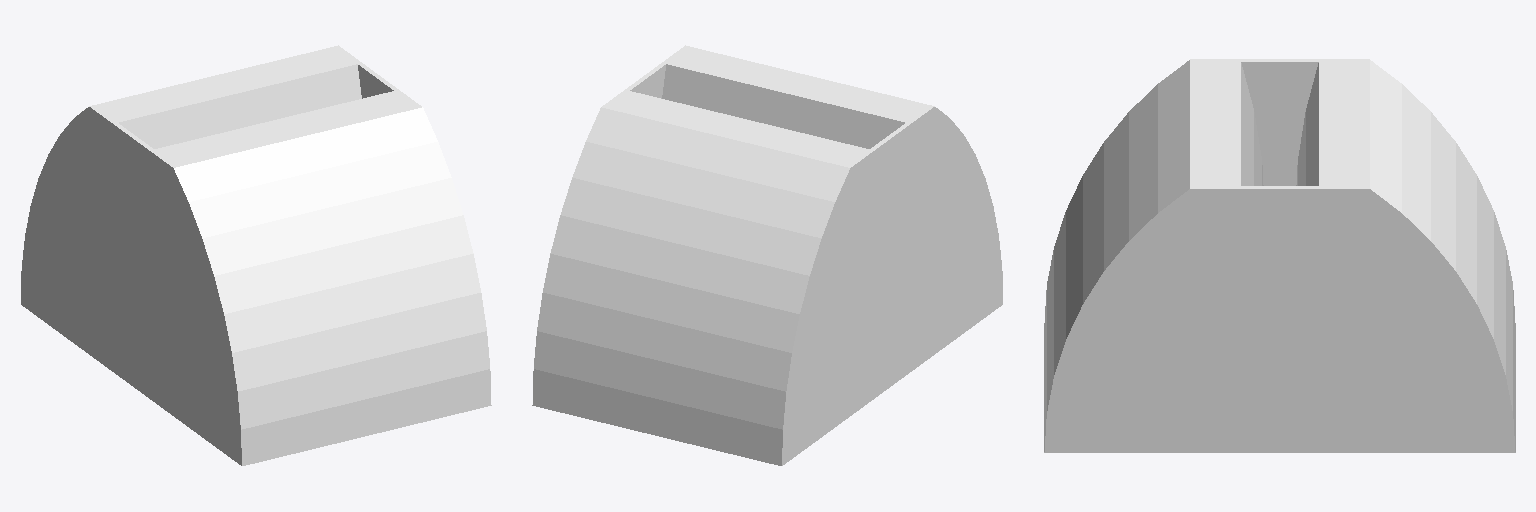
The robot description file, URDF, robot "tubestraight0328":
<?xml version="1.0" encoding="utf-8"?>
<!-- This URDF was automatically created by SolidWorks to URDF Exporter! Originally created by [author] ([email redacted]) 
     Commit Version: 1.6.0-1-g15f4949  Build Version: 1.6.7594.29634
     For more information, please see http://wiki.ros.org/sw_urdf_exporter -->
<robot
  name="tubestraight0328">
  <link
    name="base_link">
    <inertial>
      <origin
        xyz="1.25 -0.000986875362566586 0.62710678276959"
        rpy="0 0 0" />
      <mass
        value="106.928396434074" />
      <inertia
        ixx="78.3989581833438"
        ixy="3.01129949358587E-13"
        ixz="-7.31679776851198E-14"
        iyy="69.3721722264704"
        iyz="-0.0668085932515206"
        izz="120.410532242369" />
    </inertial>
    <visual>
      <origin
        xyz="0 0 0"
        rpy="0 0 0" />
      <geometry>
        <mesh
          filename="package://tubestraight0328/meshes/base_link.STL" />
      </geometry>
      <material
        name="">
        <color
          rgba="1 0.752941176470588 1 1" />
      </material>
    </visual>
    <collision>
      <origin
        xyz="0 0 0"
        rpy="0 0 0" />
      <geometry>
        <mesh
          filename="package://tubestraight0328/meshes/base_link.STL" />
      </geometry>
    </collision>
  </link>
  <link
    name="Link_wing">
    <inertial>
      <origin
        xyz="8.88178419700125E-16 0.129717036139893 1.25000000000001"
        rpy="0 0 0" />
      <mass
        value="15073.518171395" />
      <inertia
        ixx="14788.5132430074"
        ixy="-4.54747350886464E-13"
        ixz="1021.6934850648"
        iyy="13454.3451478932"
        iyz="-5.74118530494161E-12"
        izz="10900.7100072566" />
    </inertial>
    <visual>
      <origin
        xyz="0 0 0"
        rpy="0 0 0" />
      <geometry>
        <mesh
          filename="package://tubestraight0328/meshes/Link_wing.STL" />
      </geometry>
      <material
        name="">
        <color
          rgba="1 1 1 1" />
      </material>
    </visual>
    <collision>
      <origin
        xyz="0 0 0"
        rpy="0 0 0" />
      <geometry>
        <mesh
          filename="package://tubestraight0328/meshes/Link_wing.STL" />
      </geometry>
    </collision>
  </link>
  <joint
    name="Joint_wing"
    type="revolute">
    <origin
      xyz="0 0 1.0635"
      rpy="1.5708 0 1.5708" />
    <parent
      link="base_link" />
    <child
      link="Link_wing" />
    <axis
      xyz="0 0 -1" />
    <limit
      lower="0"
      upper="0"
      effort="0"
      velocity="0" />
  </joint>
  <link
    name="Link_grippoint">
    <inertial>
      <origin
        xyz="0 0 0.00373335054570684"
        rpy="0 0 0" />
      <mass
        value="0.00246838934211679" />
      <inertia
        ixx="2.99932377489732E-07"
        ixy="3.21536241300455E-24"
        ixz="2.42561203693875E-24"
        iyy="2.77447755134261E-08"
        iyz="5.7372329108809E-24"
        izz="2.97310716713236E-07" />
    </inertial>
    <visual>
      <origin
        xyz="0 0 0"
        rpy="0 0 0" />
      <geometry>
        <mesh
          filename="package://tubestraight0328/meshes/Link_grippoint.STL" />
      </geometry>
      <material
        name="">
        <color
          rgba="0.792156862745098 0.819607843137255 0.933333333333333 1" />
      </material>
    </visual>
    <collision>
      <origin
        xyz="0 0 0"
        rpy="0 0 0" />
      <geometry>
        <mesh
          filename="package://tubestraight0328/meshes/Link_grippoint.STL" />
      </geometry>
    </collision>
  </link>
  <joint
    name="Joint_grippoint"
    type="fixed">
    <origin
      xyz="1.66 0 1.0635"
      rpy="0 0 1.5707963267949" />
    <parent
      link="base_link" />
    <child
      link="Link_grippoint" />
    <axis
      xyz="0 0 0" />
    <limit
      lower="0"
      upper="0"
      effort="0"
      velocity="0" />
  </joint>
</robot>

--- Render facts (derived) ---
3 views of the same robot in one strip: view 1: azimuth 30°, elevation 25°; view 2: azimuth 150°, elevation 25°; view 3: azimuth 270°, elevation 25° (orthographic).
Robot: tubestraight0328 — 3 links, 2 joints (1 revolute, 1 fixed); root link base_link; default pose: every joint at zero.
Visible links, largest first — view 1: Link_wing; view 2: Link_wing; view 3: Link_wing.
Boxes of the visible links, x1=… form: Link_wing: x1=21, y1=45, x2=491, y2=465; Link_wing: x1=532, y1=45, x2=1002, y2=465; Link_wing: x1=1044, y1=59, x2=1515, y2=452.
Bounding box of the posed robot: 2.6 × 4 × 2.47 m (x, y, z).
2 mesh visuals loaded from 3 distinct referenced files (2 binary STL); not drawn: 1 (reference not matched to a file when rendering).
